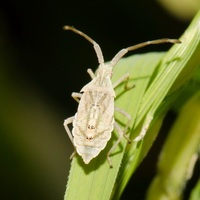insect: (63, 26, 180, 163)
